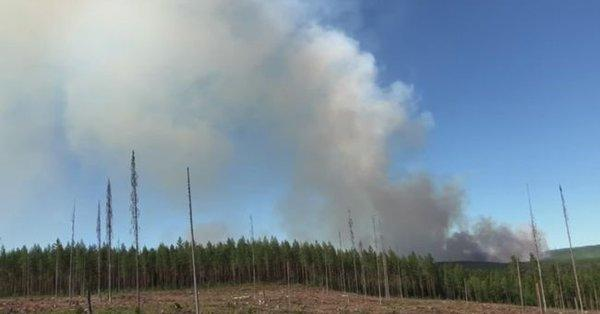smoke: (68, 2, 547, 264)
